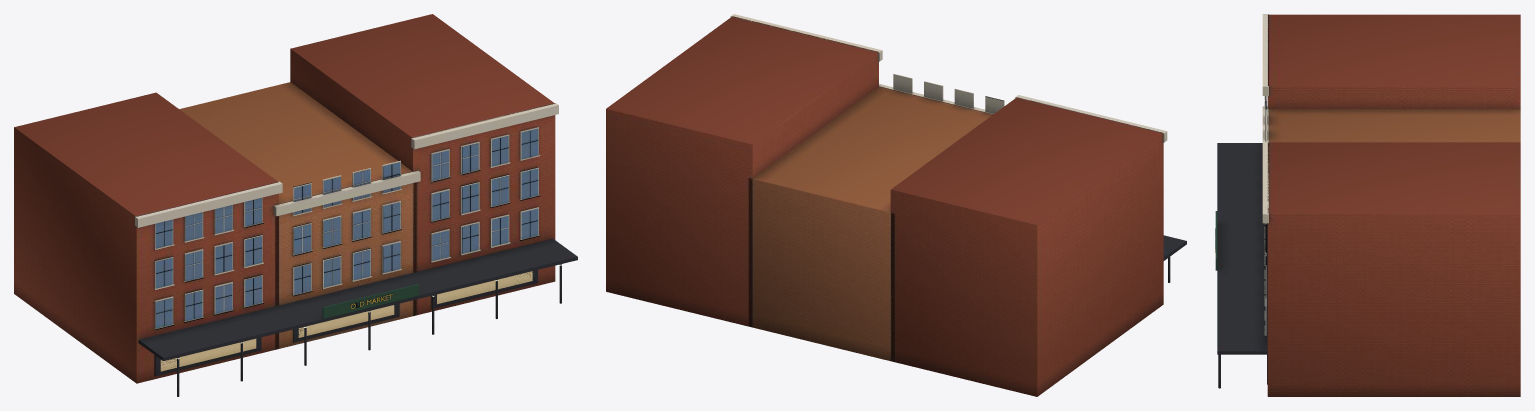
The model's file is old_market.glb.
The picture shows the model from 3 angles, left to right: view 1: azimuth 30°, elevation 25°; view 2: azimuth 150°, elevation 25°; view 3: azimuth 270°, elevation 25°; orthographic projection. The views are drawn at different scales.
Parts seen in each view (by area): view 1: old_market; view 2: old_market; view 3: old_market.
Boxes of the visible parts, box(x1,y1,x2,y2) form: old_market: box(14, 14, 577, 396); old_market: box(606, 14, 1186, 396); old_market: box(1215, 14, 1520, 396).
Bounding box in the file's own units: 39.6 × 16 × 24.16.
1 material, 1 textured.
